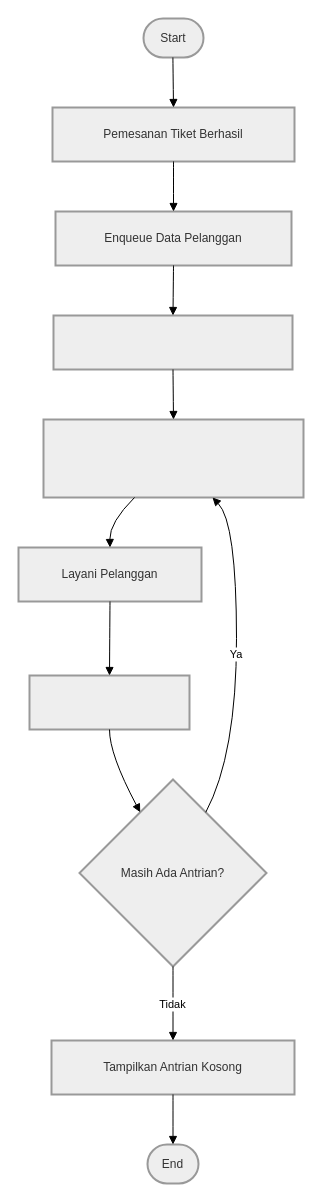
Some shapes in this 321 by 1201 pixel diagram are drawn without their labels. Here are the shapes that lost their labels. From the top down, the centre of each, then its label:
At (172,342): "Tampilkan Daftar Antrian".
At (173,458): "Ambil Data Paling Depan Queue".
At (109,702): "Dequeue Data".
